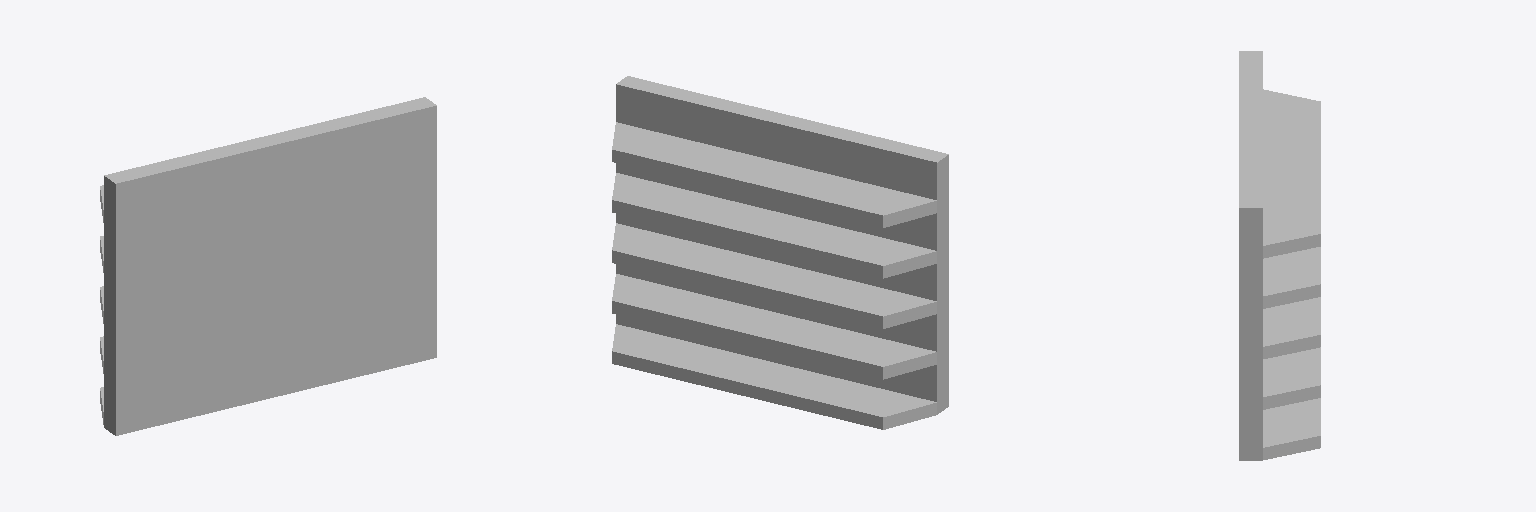
File: shelf-1.obj
3 renders of one model, left to right at view 1: azimuth 30°, elevation 25°; view 2: azimuth 150°, elevation 25°; view 3: azimuth 270°, elevation 25°, orthographic.
Parts seen in each view (by area): view 1: pCube8; view 2: pCube8; view 3: pCube8.
Boxes of the visible parts, <box> form: pCube8: <box>100,97,436,435</box>; pCube8: <box>612,76,948,429</box>; pCube8: <box>1239,51,1320,460</box>.
Size of the model in its own units: 8 by 6 by 1.75.